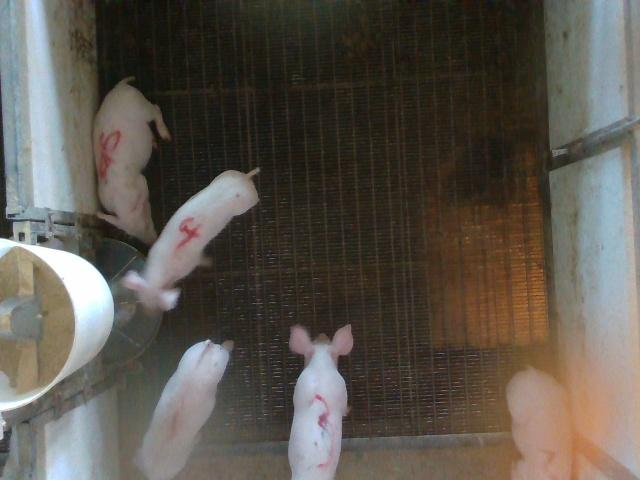pig-1: (135, 340, 232, 479)
pig-3: (289, 325, 352, 479)
pig-4: (122, 169, 259, 311)
pig-5: (94, 78, 170, 243)
